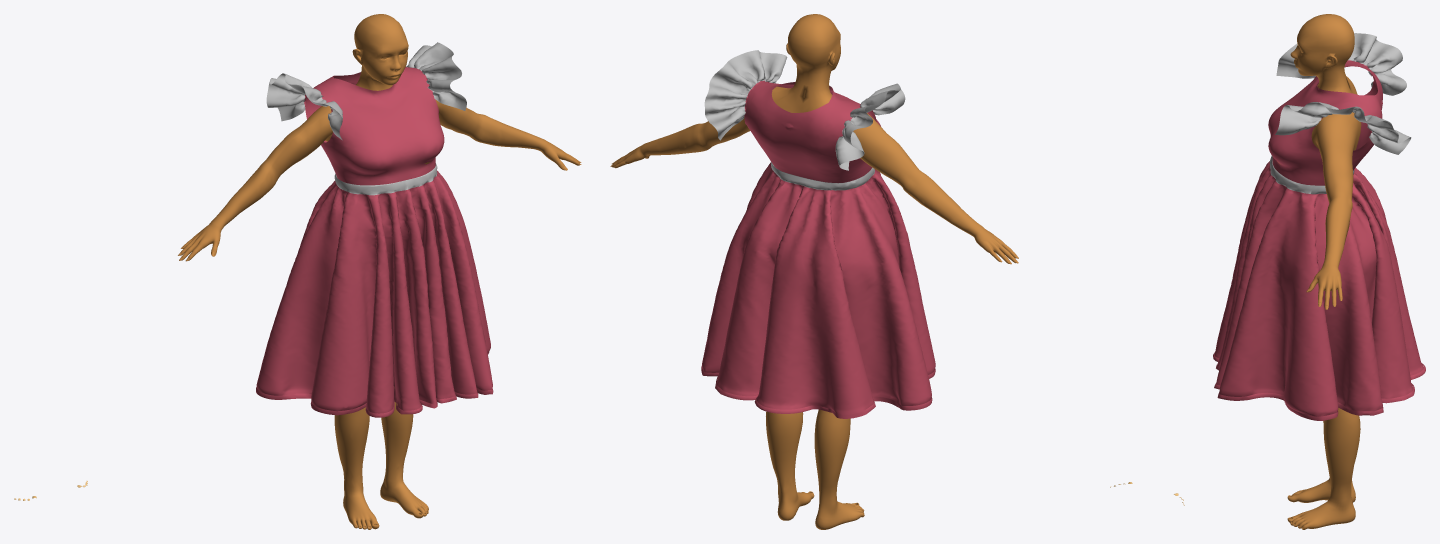
File: dress4.glb
The picture shows the model from 3 angles, left to right: view 1: azimuth 30°, elevation 25°; view 2: azimuth 150°, elevation 25°; view 3: azimuth 270°, elevation 25°; orthographic projection.
Parts seen in each view (by area): view 1: PinkDrees#14 (OBJ), Body.003; view 2: PinkDrees#14 (OBJ), Body.003; view 3: PinkDrees#14 (OBJ), Body.003.
Part boxes in pixels (<box>): PinkDrees#14 (OBJ): <box>256,42,493,417</box>; Body.003: <box>180,14,580,529</box>; PinkDrees#14 (OBJ): <box>701,50,935,418</box>; Body.003: <box>611,14,1016,529</box>; PinkDrees#14 (OBJ): <box>1213,33,1425,420</box>; Body.003: <box>1277,14,1361,529</box>.
Size of the model in its own units: 2.22 by 1.85 by 0.7188.
